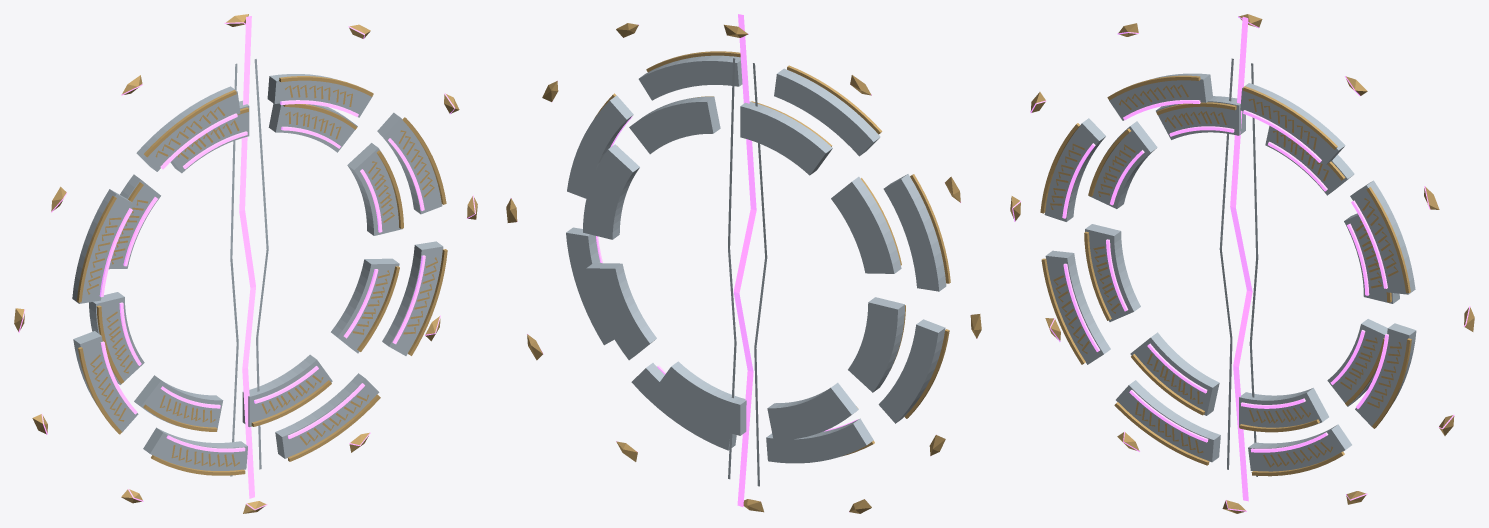
Rendered from domain-gate.glb.
3 views of the same model, side by side, from view 1: azimuth 30°, elevation 25°; view 2: azimuth 150°, elevation 25°; view 3: azimuth 330°, elevation 25° (orthographic). The views are drawn at different scales.
Visible parts, largest first — view 1: domain-gate_silver, domain-gate_gold, domain-gate_energy; view 2: domain-gate_silver, domain-gate_gold, domain-gate_energy; view 3: domain-gate_silver, domain-gate_gold, domain-gate_energy.
Part boxes in pixels (bbox=[...]): domain-gate_silver: bbox=[72, 59, 443, 476]; domain-gate_gold: bbox=[14, 14, 477, 513]; domain-gate_energy: bbox=[18, 16, 475, 510]; domain-gate_silver: bbox=[566, 55, 946, 486]; domain-gate_gold: bbox=[506, 23, 981, 513]; domain-gate_energy: bbox=[511, 14, 977, 512]; domain-gate_silver: bbox=[1044, 58, 1416, 476]; domain-gate_gold: bbox=[1010, 14, 1474, 513]; domain-gate_energy: bbox=[1012, 16, 1470, 511].
Bounding box in the file's own units: 3.83 × 3.87 × 0.3962.
